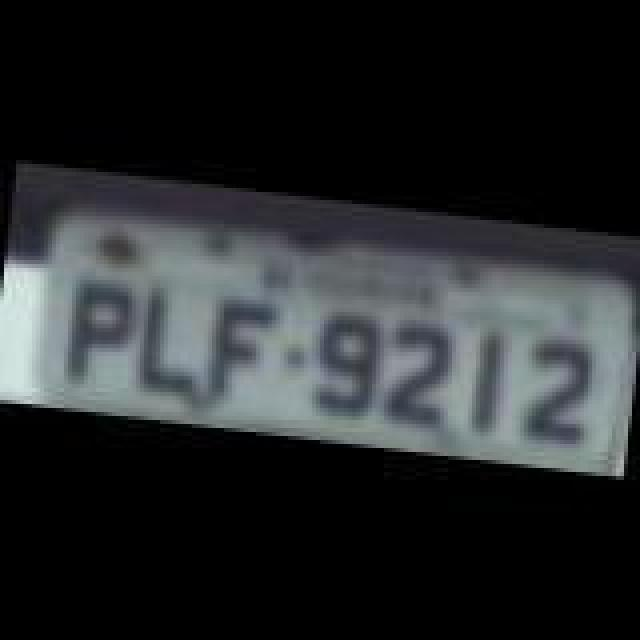1: (466, 330, 510, 438)
2: (516, 338, 604, 454), (376, 320, 464, 432)
9: (314, 314, 390, 422)
F: (202, 294, 278, 410)
L: (134, 286, 210, 402)
P: (62, 280, 138, 392)
